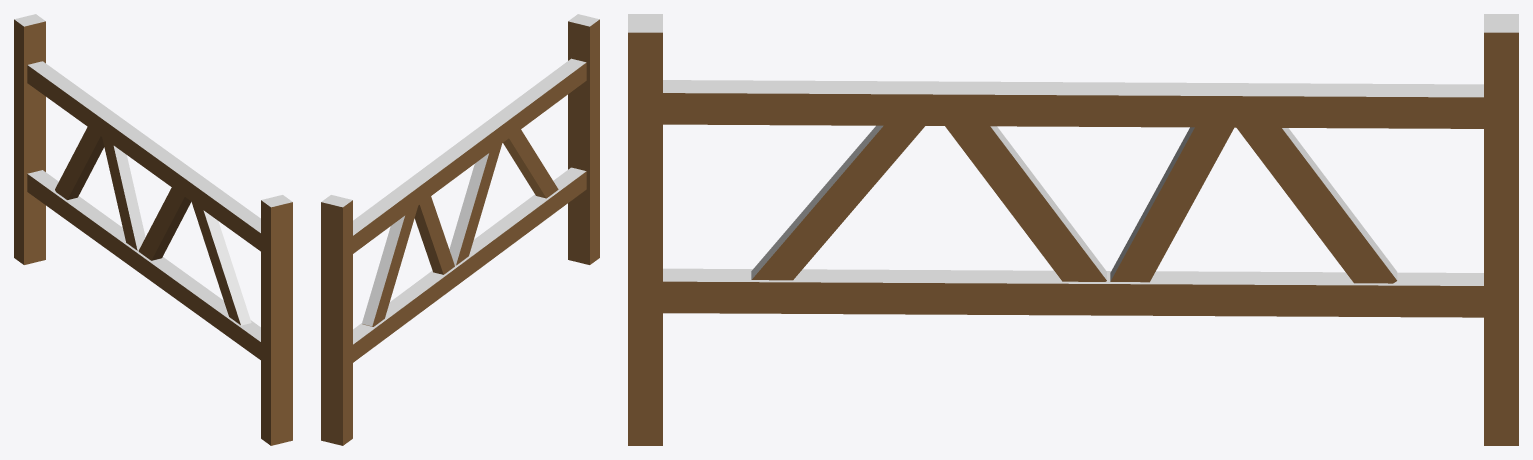
Rendered from barriereNeige.fbx.
3 renders of one model, left to right at view 1: azimuth 30°, elevation 25°; view 2: azimuth 150°, elevation 25°; view 3: azimuth 270°, elevation 25°, orthographic. The views are drawn at different scales.
Visible parts, largest first — view 1: Cube, Cube.002, Cube.001, Cube.003, Cube.004, Cube.006, Cube.005, Cube.007; view 2: Cube.001, Cube.002, Cube.003, Cube, Cube.007, Cube.005, Cube.006, Cube.004; view 3: Cube.002, Cube.003, Cube, Cube.001, Cube.007, Cube.005, Cube.004, Cube.006.
Boxes of the visible parts, left/top/right/bottom form: Cube: left=261, top=195, right=292, bottom=445; Cube.002: left=27, top=61, right=260, bottom=251; Cube.001: left=14, top=14, right=45, bottom=264; Cube.003: left=27, top=170, right=260, bottom=359; Cube.004: left=191, top=202, right=251, bottom=325; Cube.006: left=102, top=137, right=145, bottom=250; Cube.005: left=138, top=187, right=191, bottom=260; Cube.007: left=55, top=127, right=104, bottom=199; Cube.001: left=321, top=195, right=352, bottom=445; Cube.002: left=353, top=58, right=586, bottom=253; Cube.003: left=353, top=167, right=586, bottom=362; Cube: left=568, top=14, right=599, bottom=264; Cube.007: left=362, top=206, right=417, bottom=326; Cube.005: left=449, top=143, right=502, bottom=265; Cube.006: left=414, top=196, right=454, bottom=274; Cube.004: left=503, top=129, right=558, bottom=198; Cube.002: left=663, top=80, right=1483, bottom=128; Cube.003: left=663, top=268, right=1483, bottom=317; Cube: left=628, top=14, right=662, bottom=445; Cube.001: left=1484, top=14, right=1518, bottom=445; Cube.007: left=1236, top=127, right=1397, bottom=283; Cube.005: left=945, top=126, right=1106, bottom=281; Cube.004: left=751, top=125, right=924, bottom=280; Cube.006: left=1110, top=127, right=1233, bottom=282.
Bounding box in the file's own units: 17.52 × 182 × 356.
